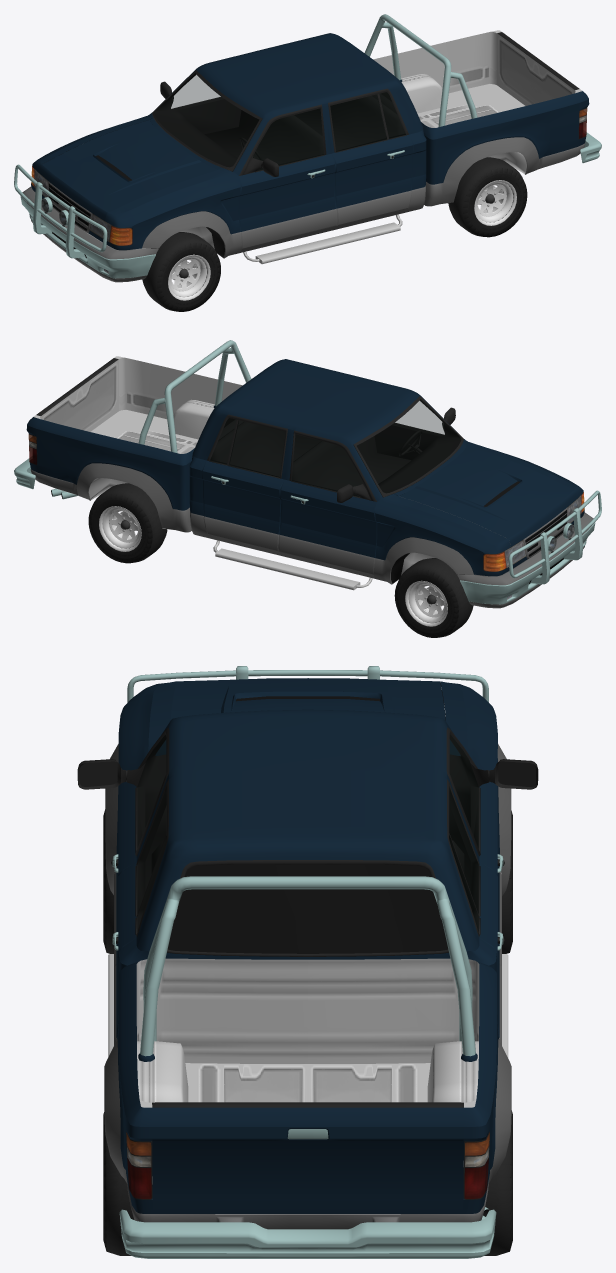
The model's file is cartl.fbx.
3 views of the same model, one above another, from view 1: azimuth 30°, elevation 25°; view 2: azimuth 150°, elevation 25°; view 3: azimuth 270°, elevation 25° (orthographic). The views are drawn at different scales.
Visible parts, largest first — view 1: body, interior, hood, fender_left, trunk, glass, wheel_02, wheel_01, trunk_door, BOTTOM, bumper_bars, trunk_bars (+5 smaller); view 2: body, interior, hood, fender_left, trunk, glass, wheel_03, wheel_04, trunk_door, BOTTOM, bumper_bars, trunk_bars (+5 smaller); view 3: body, trunk, trunk_door, interior, bumper_rear_02, fender_left, trunk_bars, hood, glass, backlights, bumper_bars, wheel_02 (+4 smaller).
Part boxes in pixels (x1,y1,x2,y2): body: [149, 33, 589, 252]; interior: [154, 73, 405, 171]; hood: [38, 120, 216, 220]; fender_left: [31, 112, 241, 258]; trunk: [373, 30, 581, 127]; glass: [171, 75, 405, 170]; wheel_02: [448, 157, 527, 237]; wheel_01: [142, 232, 220, 311]; trunk_door: [497, 32, 579, 105]; BOTTOM: [86, 152, 526, 280]; bumper_bars: [14, 164, 107, 258]; trunk_bars: [364, 14, 477, 127]; body: [26, 359, 466, 578]; interior: [210, 399, 461, 496]; hood: [399, 446, 576, 546]; fender_left: [374, 439, 584, 584]; trunk: [34, 356, 242, 453]; glass: [210, 401, 444, 496]; wheel_03: [88, 483, 167, 563]; wheel_04: [394, 558, 473, 637]; trunk_door: [36, 358, 118, 431]; BOTTOM: [36, 478, 529, 606]; bumper_bars: [508, 490, 601, 584]; trunk_bars: [138, 340, 251, 453]; body: [77, 709, 538, 1229]; trunk: [136, 958, 479, 1214]; trunk_door: [152, 1102, 463, 1213]; interior: [137, 735, 478, 953]; bumper_rear_02: [119, 1209, 496, 1258]; fender_left: [105, 681, 511, 895]; trunk_bars: [138, 876, 477, 1061]; hood: [170, 678, 445, 719]; glass: [137, 735, 478, 931]; backlights: [126, 1131, 489, 1199]; bumper_bars: [127, 666, 488, 702]; wheel_02: [103, 1112, 134, 1255].
Bounding box in the file's own units: 205 × 66.23 × 80.47.
